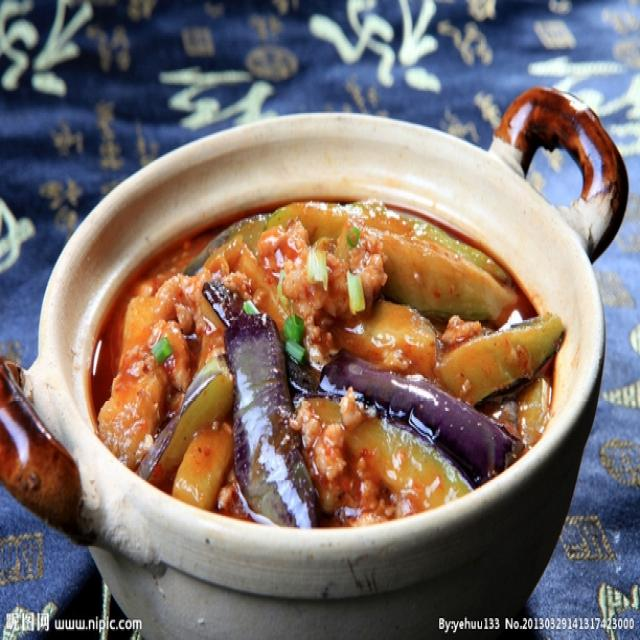鸡蛋料理: (40, 114, 590, 550)
